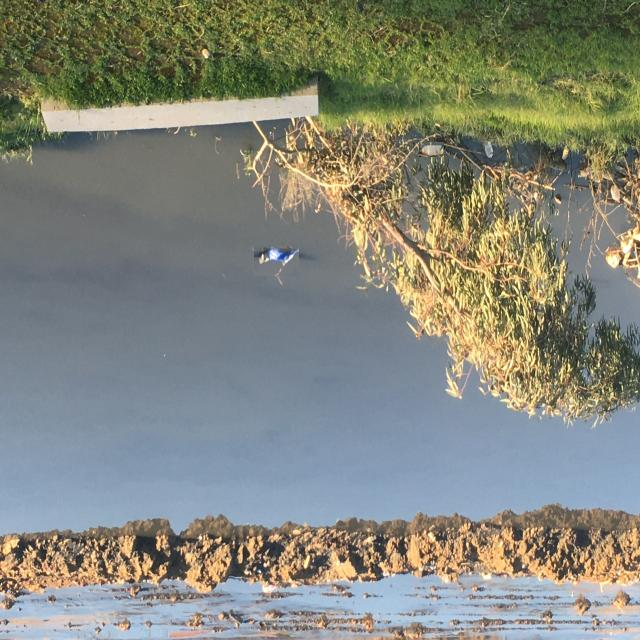Plastic bag: (254, 242, 299, 276)
Plastic bottle: (419, 142, 444, 157), (483, 139, 494, 161)
